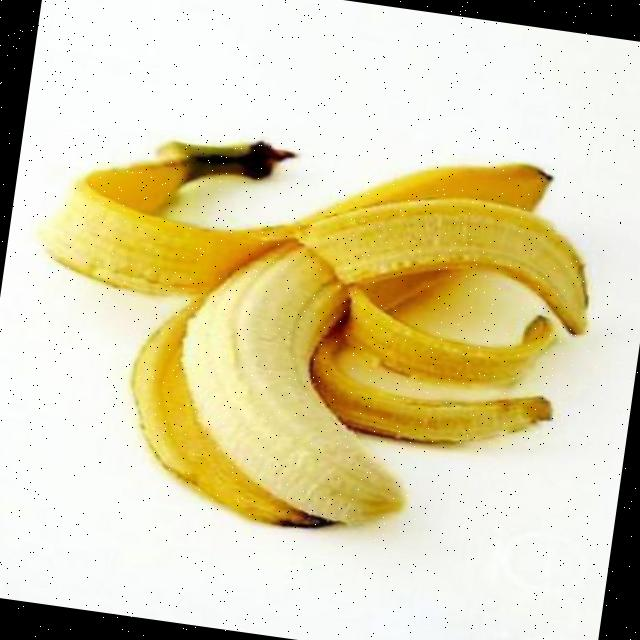banana-peel: (3, 95, 610, 565), (33, 95, 558, 348)
